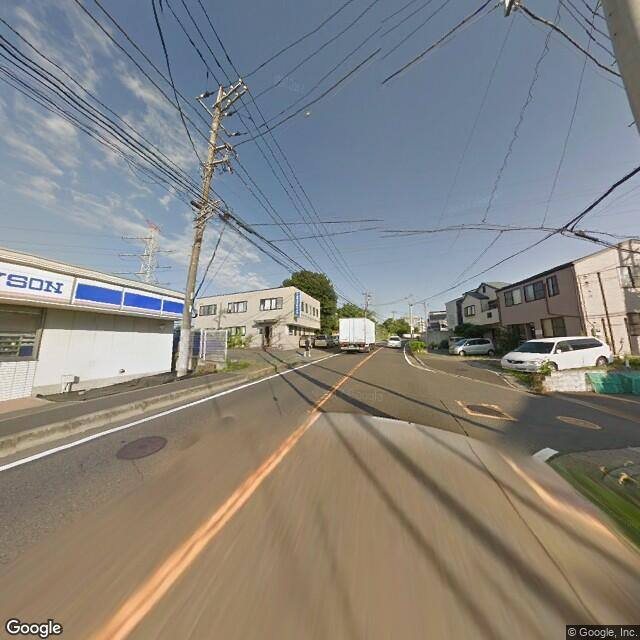lawson: (2, 252, 194, 319)
